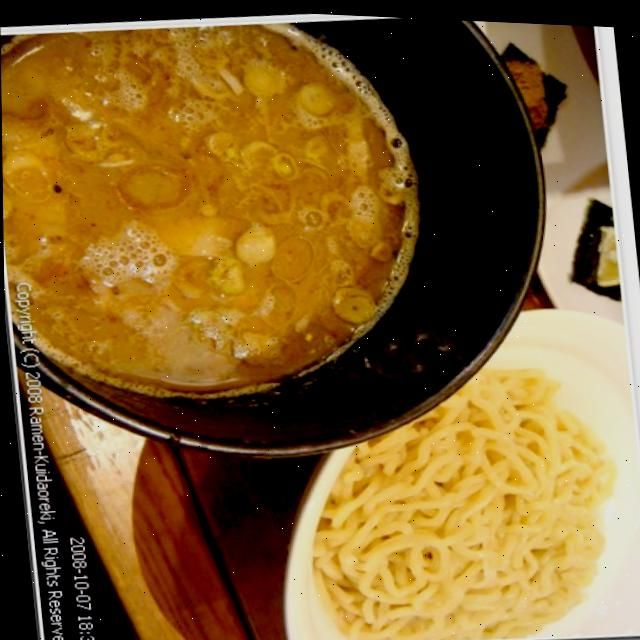面条主食: (0, 0, 631, 640)
